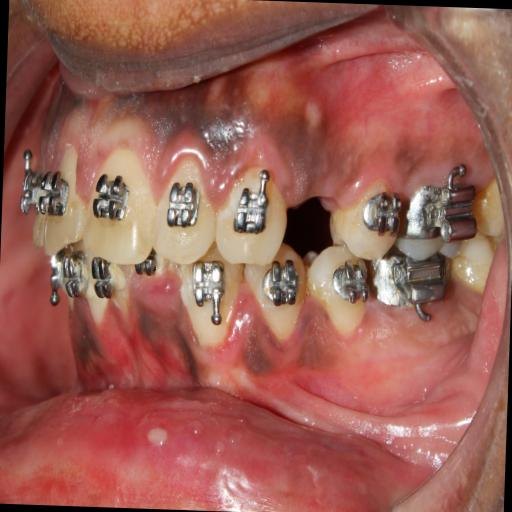correct_brace: (328, 167, 404, 264), (232, 176, 270, 240), (91, 170, 130, 228), (162, 176, 200, 230)
incorrect_brace: (153, 155, 218, 265), (362, 187, 402, 240)
